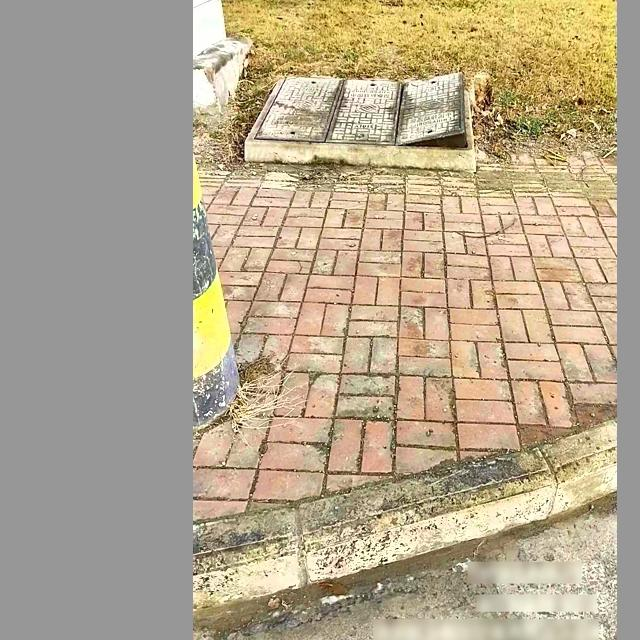uncovered: (242, 67, 476, 156)
